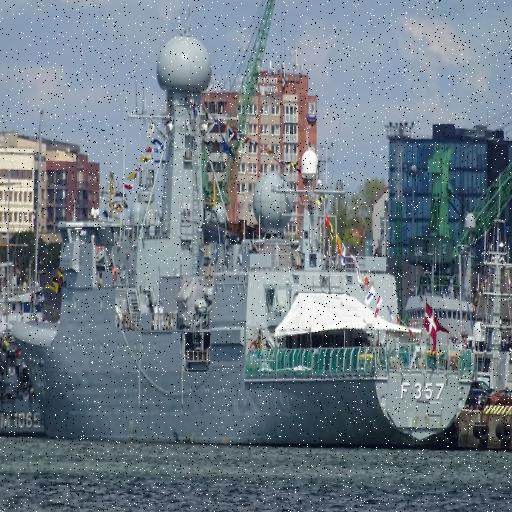Fragata: (1, 29, 483, 447)
